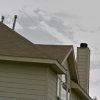Chimney: (68, 36, 95, 94)
